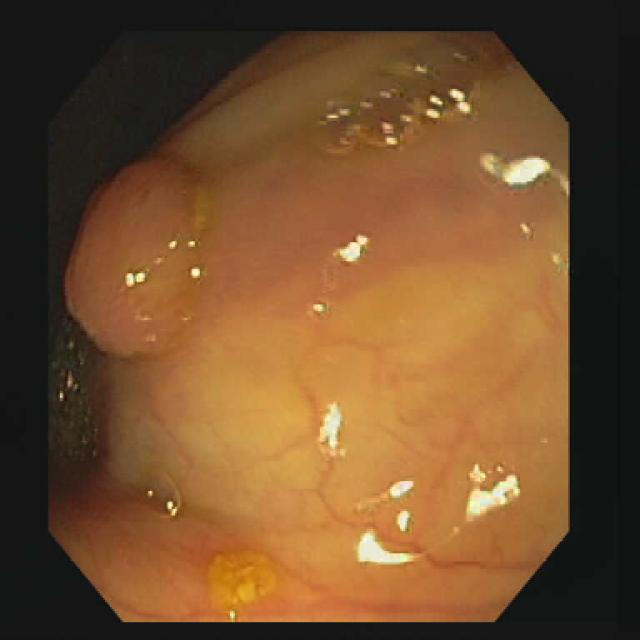tumor: (67, 156, 202, 349)
